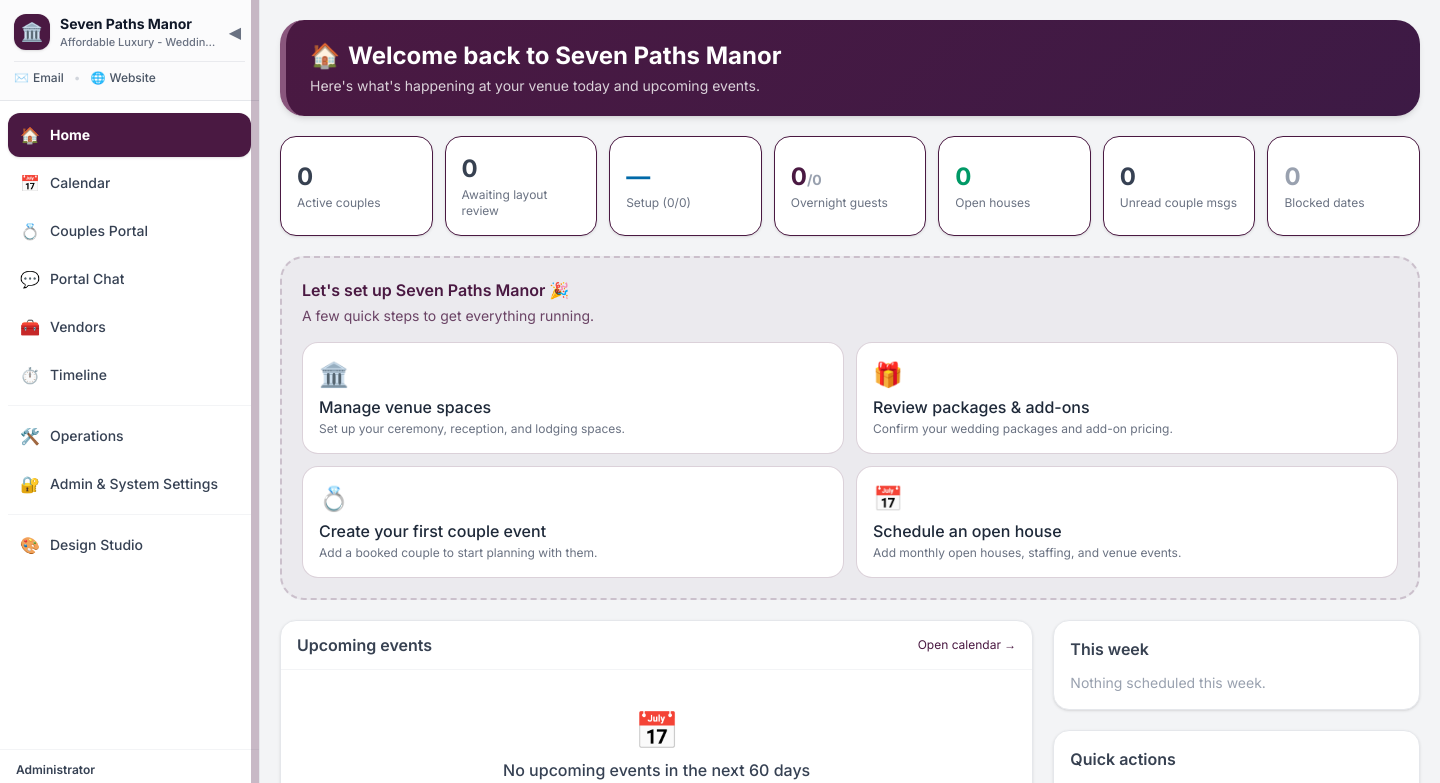
Test: App Staff Operations access › renders the Staff Operations panel when an admin opens Operations
Click the button "🛠️ Operations" at coordinates (130, 436), box [8, 414, 251, 458]
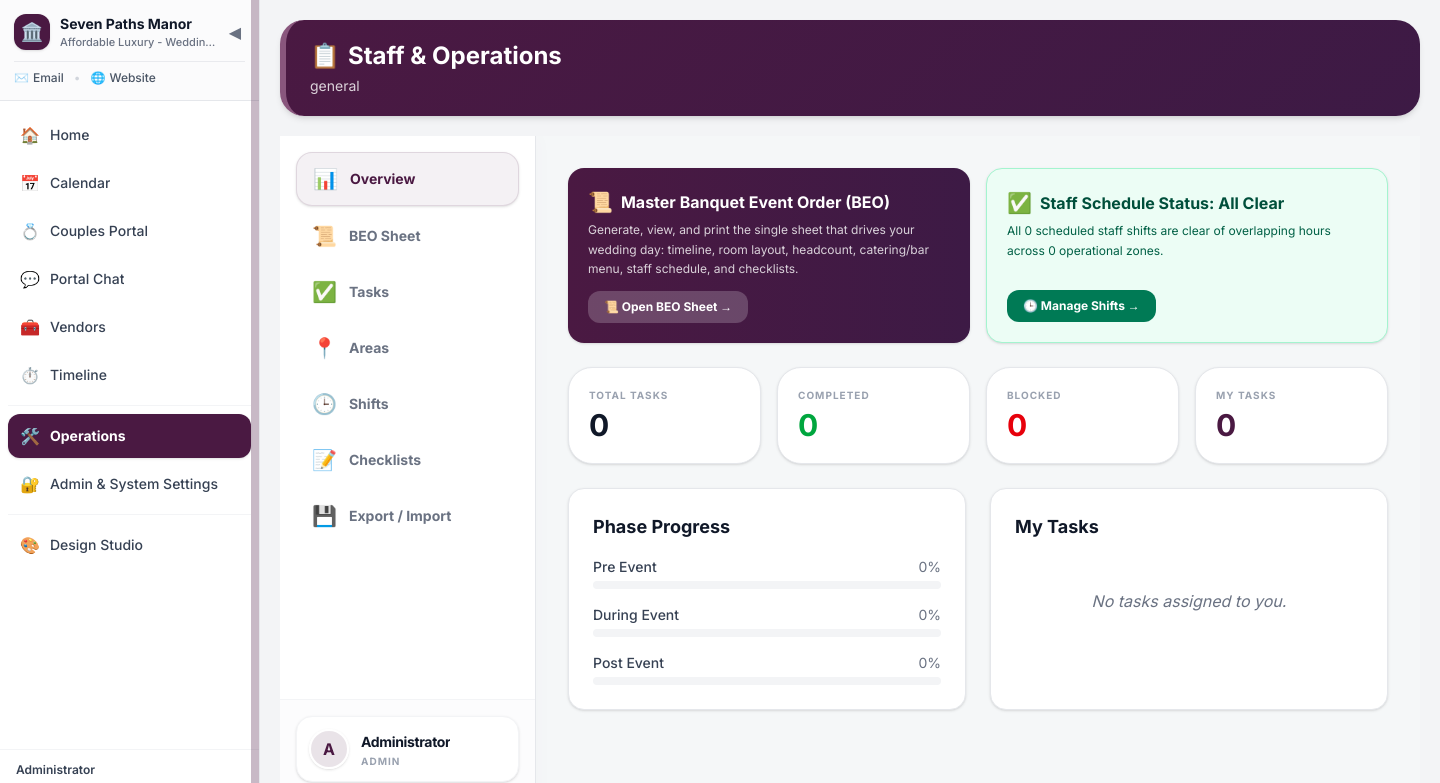
Expected: the heading "📋 Staff & Operations" is shown, [310, 40, 562, 72]
